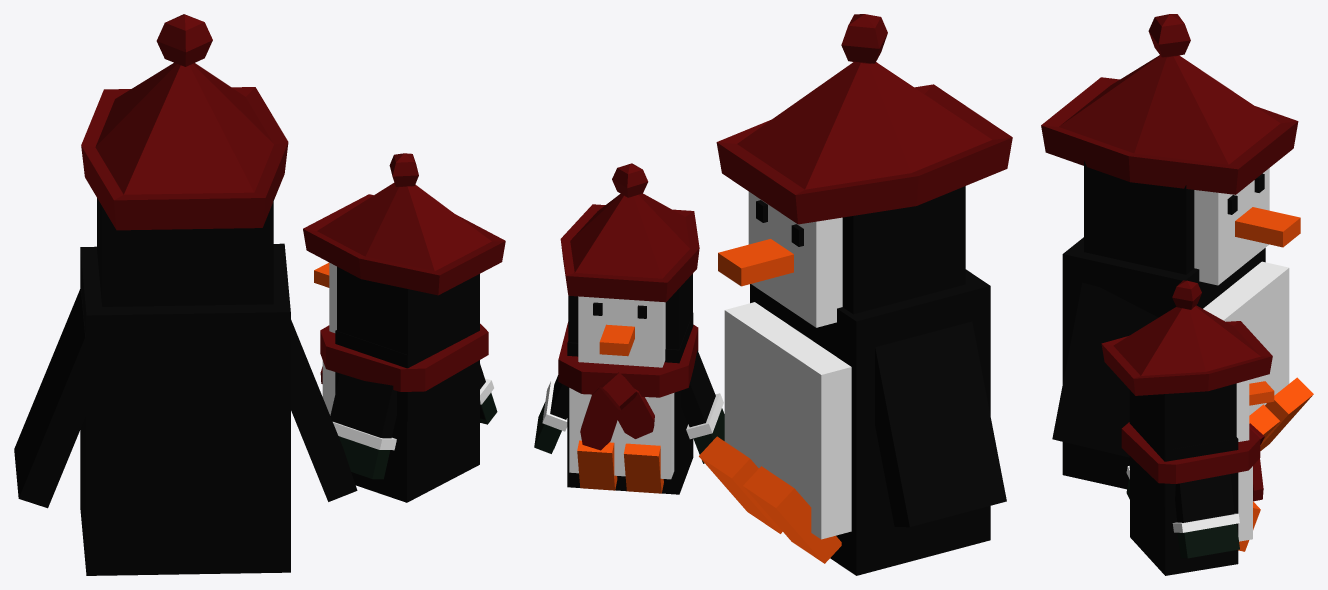
File: Child-Parend-Sitting-Penguins.obj
3 views of the same model, side by side, from view 1: azimuth 30°, elevation 25°; view 2: azimuth 150°, elevation 25°; view 3: azimuth 270°, elevation 25° (orthographic). The views are drawn at different scales.
Parts seen in each view (by area): view 1: polySurface392, polySurface582; view 2: polySurface392, polySurface582; view 3: polySurface392, polySurface582.
Boxes of the visible parts, left/top/right/bottom form: polySurface392: left=14, top=14, right=357, bottom=575; polySurface582: left=303, top=153, right=505, bottom=502; polySurface392: left=699, top=14, right=1012, bottom=575; polySurface582: left=534, top=163, right=724, bottom=494; polySurface392: left=1041, top=14, right=1313, bottom=489; polySurface582: left=1101, top=280, right=1274, bottom=575.
Size of the model in its own units: 1.36 by 1.41 by 0.7887.
